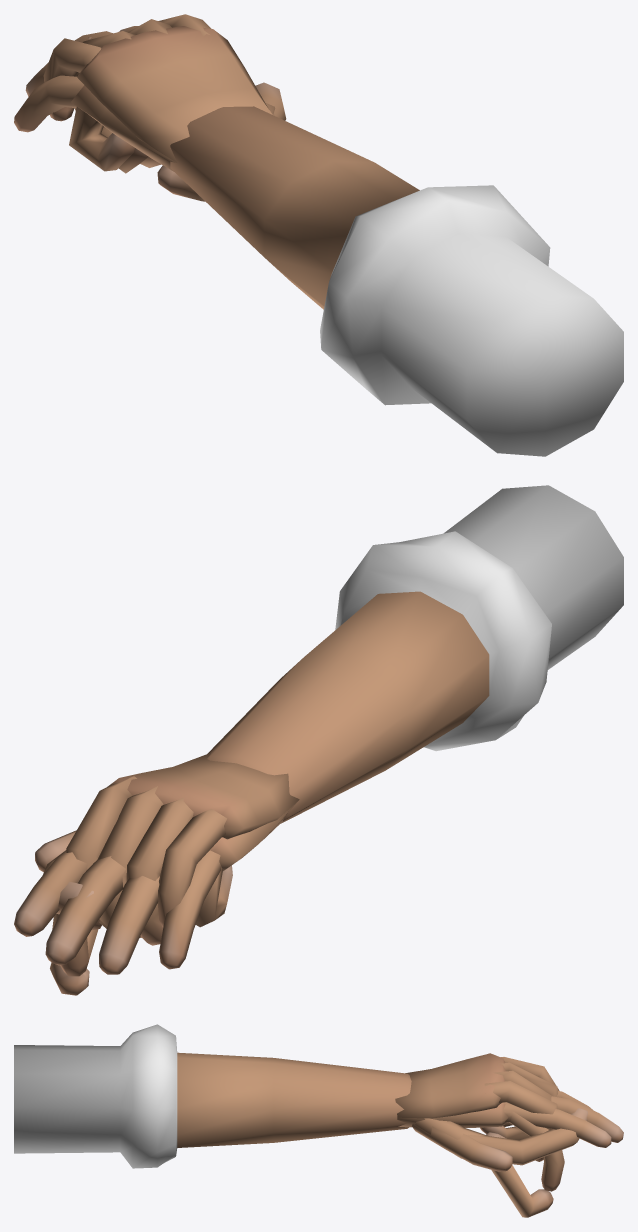
Rendered from fp_arm_l.glb.
3 views of the same model, one above another, from view 1: azimuth 30°, elevation 25°; view 2: azimuth 150°, elevation 25°; view 3: azimuth 270°, elevation 25° (orthographic). The views are drawn at different scales.
Visible parts, largest first — view 1: Forearm_L, HandGrip_L, HandOpen_L, HandPinch_L; view 2: Forearm_L, HandGrip_L, HandOpen_L, HandPinch_L; view 3: Forearm_L, HandGrip_L, HandOpen_L, HandPinch_L.
Boxes of the visible parts, <box> form: Forearm_L: <box>170,106,623,456</box>; HandGrip_L: <box>43,14,272,162</box>; HandOpen_L: <box>14,26,286,171</box>; HandPinch_L: <box>69,102,275,201</box>; Forearm_L: <box>207,485,623,823</box>; HandGrip_L: <box>43,753,299,945</box>; HandOpen_L: <box>14,800,298,974</box>; HandPinch_L: <box>50,865,232,995</box>; Forearm_L: <box>14,1024,411,1168</box>; HandGrip_L: <box>395,1053,587,1165</box>; HandOpen_L: <box>397,1091,623,1171</box>; HandPinch_L: <box>415,1111,564,1217</box>.
Size of the model in its own units: 0.1368 by 0.1396 by 0.4931.
